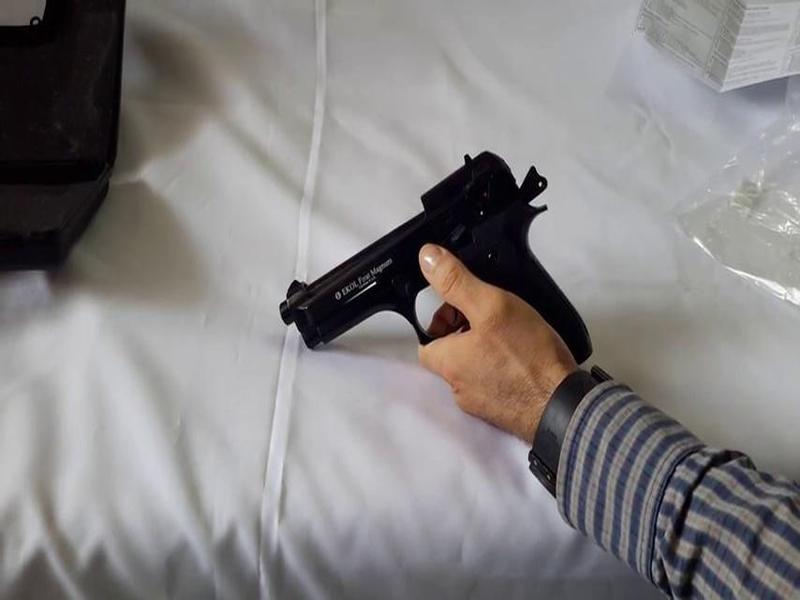Pistola: (285, 150, 583, 384)
